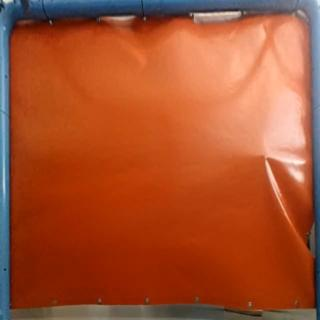Hit-hRxx: (258, 148, 274, 166)
